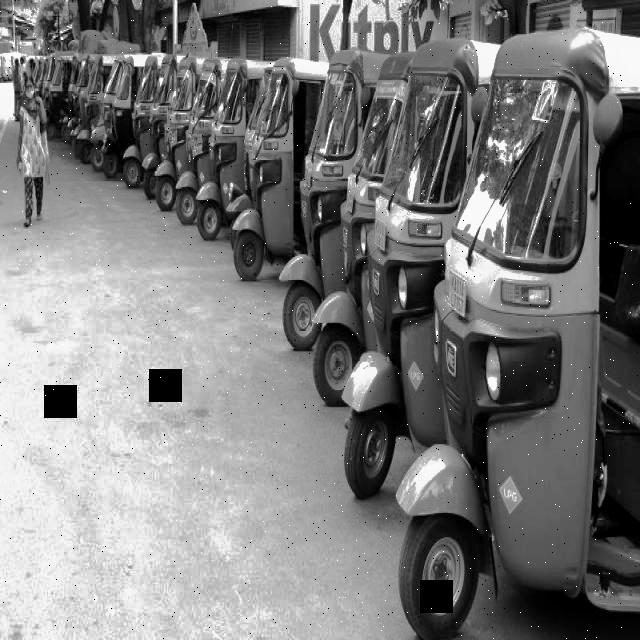Auto-Rickshaw: (255, 58, 640, 640)
